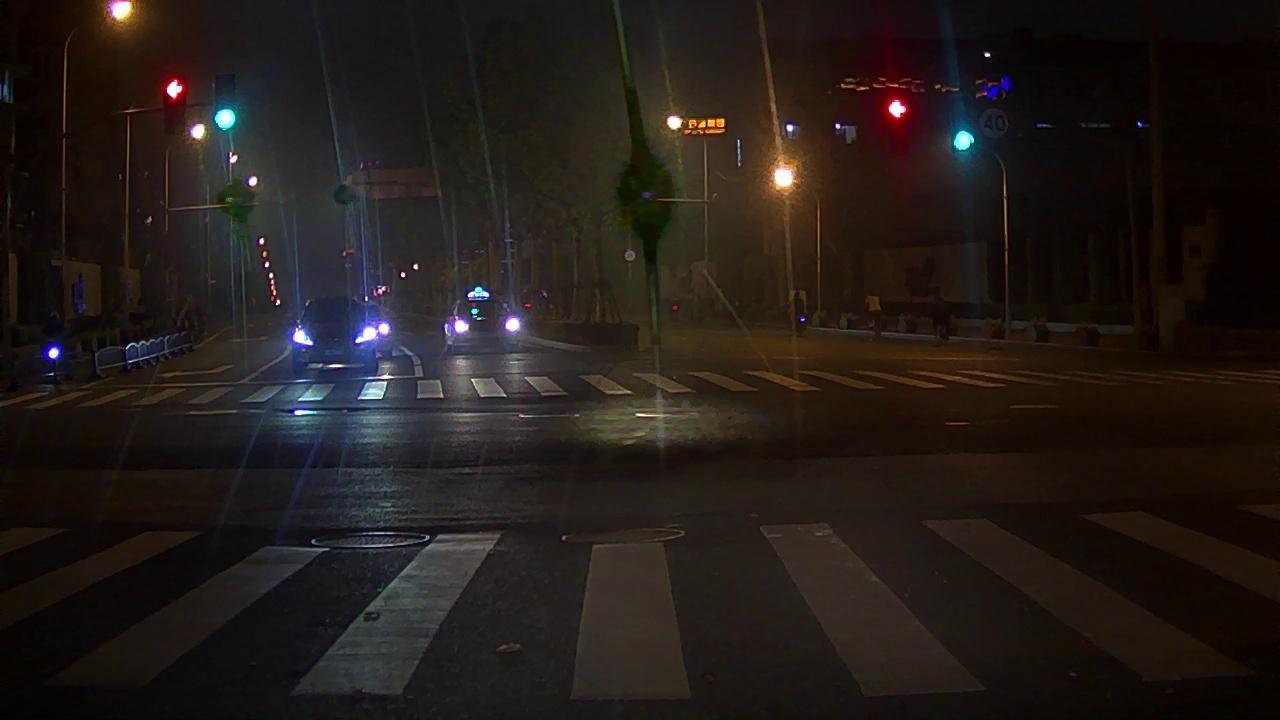traffic_light: (215, 76, 237, 131), (165, 77, 184, 131), (952, 130, 974, 153), (888, 99, 906, 118)
